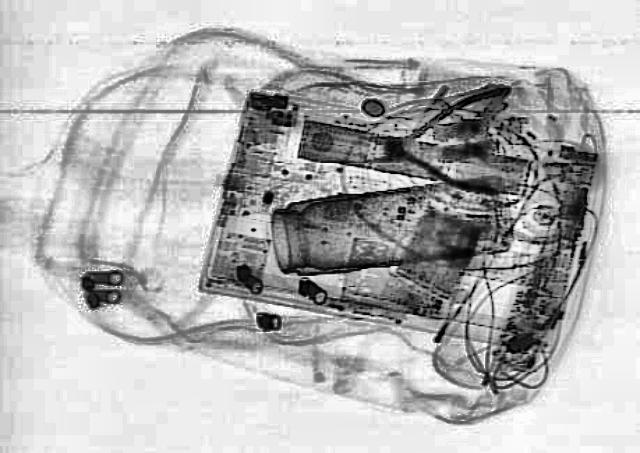Pliers: (354, 84, 528, 202)
